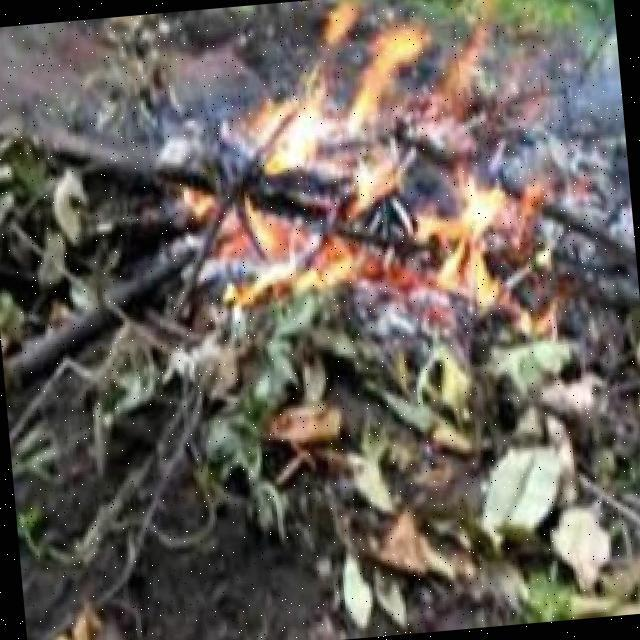Fire: (170, 7, 582, 328)
